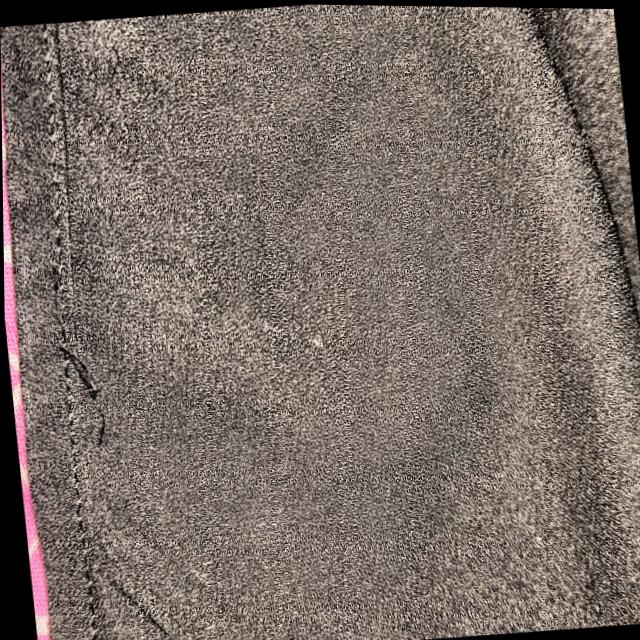Stitch: (23, 238, 145, 498)
